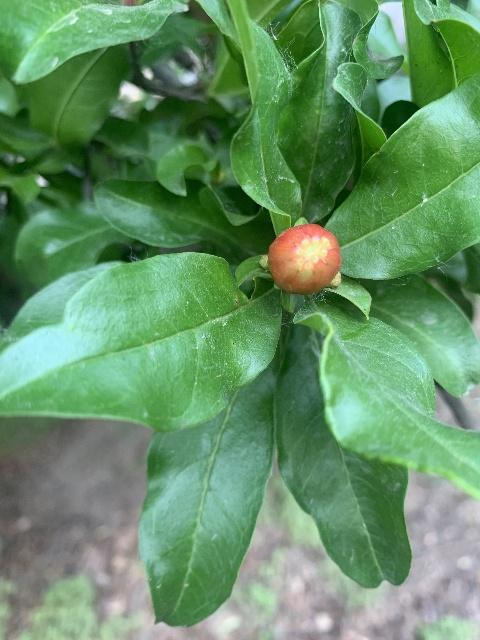bud: (268, 223, 341, 295)
